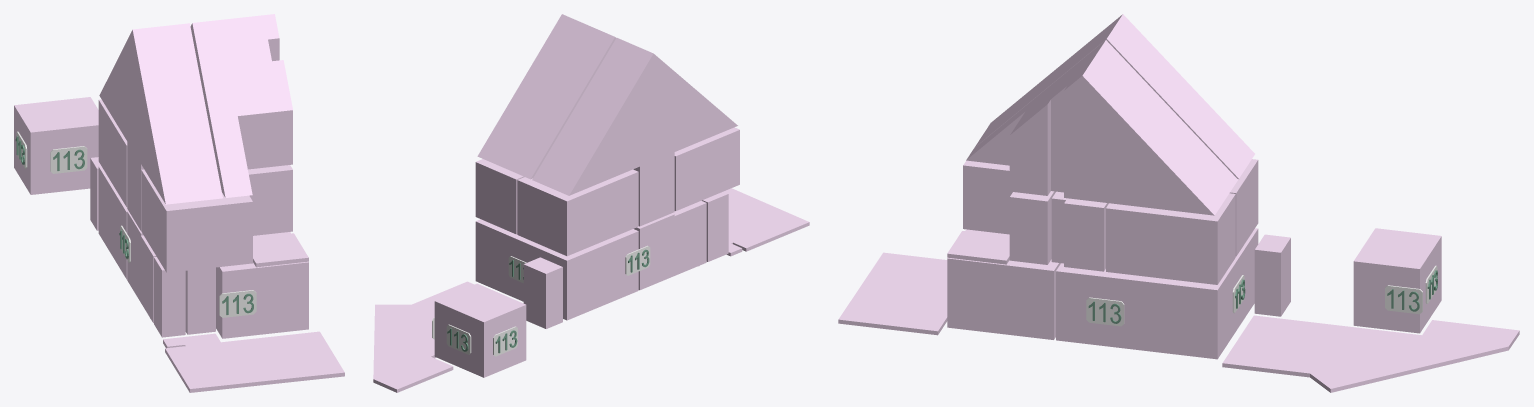
3 renders of one model, left to right at view 1: azimuth 30°, elevation 25°; view 2: azimuth 150°, elevation 25°; view 3: azimuth 270°, elevation 25°, orthographic. The views are drawn at different scales.
Parts seen in each view (by area): view 1: g_6, g_7, g_11, g_15, g_3, g_1, g_2, g_8, g_5, g_9, g_0, g_17 (+4 smaller); view 2: g_7, g_6, g_0, g_9, g_3, g_16, g_2, g_11, g_8, g_15, g_10, g_4 (+5 smaller); view 3: g_6, g_0, g_16, g_10, g_1, g_7, g_3, g_15, g_11, g_13, g_4, g_9 (+4 smaller).
Part boxes in pixels (<box>): g_6: <box>190,14,292,197</box>; g_7: <box>99,23,222,204</box>; g_11: <box>141,165,292,272</box>; g_15: <box>163,331,344,392</box>; g_3: <box>14,97,98,194</box>; g_1: <box>216,232,308,338</box>; g_2: <box>127,211,215,334</box>; g_8: <box>127,26,165,163</box>; g_5: <box>154,257,185,337</box>; g_9: <box>98,99,127,206</box>; g_0: <box>98,166,128,279</box>; g_17: <box>253,233,308,267</box>; g_7: <box>532,38,737,195</box>; g_6: <box>477,14,616,179</box>; g_0: <box>475,219,638,320</box>; g_9: <box>517,169,638,256</box>; g_3: <box>434,283,526,377</box>; g_16: <box>373,281,473,392</box>; g_2: <box>634,200,706,290</box>; g_11: <box>674,127,739,210</box>; g_8: <box>622,46,674,166</box>; g_15: <box>724,188,809,256</box>; g_10: <box>475,159,524,234</box>; g_4: <box>523,257,562,328</box>; g_6: <box>966,40,1237,215</box>; g_0: <box>1056,228,1258,359</box>; g_16: <box>1222,315,1519,392</box>; g_10: <box>1106,193,1235,284</box>; g_1: <box>947,229,1060,339</box>; g_7: <box>974,26,1254,178</box>; g_3: <box>1353,228,1441,333</box>; g_15: <box>838,252,947,335</box>; g_11: <box>963,160,1055,264</box>; g_13: <box>1051,191,1108,271</box>; g_4: <box>1254,234,1290,316</box>; g_9: <box>1230,159,1258,256</box>.
Size of the model in its own units: 11.02 by 10.25 by 23.25.
